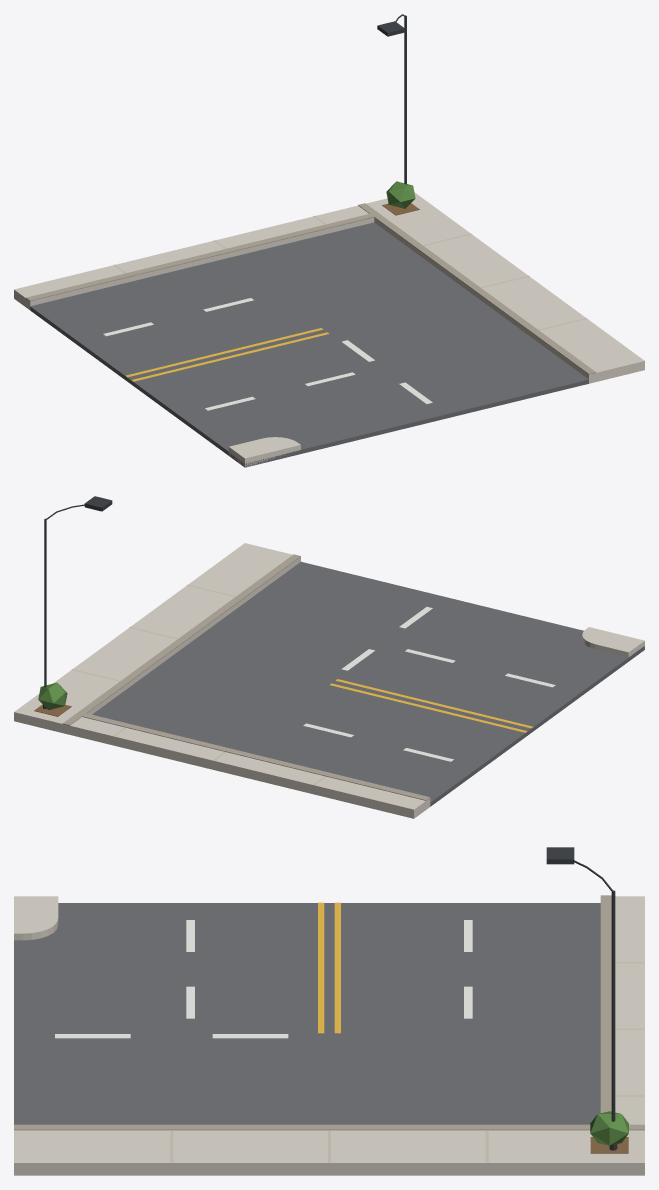
File: Yol_kose_sc_Hafif.fbx
3 renders of one model, top to bottom at view 1: azimuth 30°, elevation 25°; view 2: azimuth 150°, elevation 25°; view 3: azimuth 270°, elevation 25°, orthographic. The views are drawn at different scales.
Visible parts, largest first — view 1: Yol_kose_sc_Hafif; view 2: Yol_kose_sc_Hafif; view 3: Yol_kose_sc_Hafif.
Part boxes in pixels (<box>): Yol_kose_sc_Hafif: <box>14,14,644,467</box>; Yol_kose_sc_Hafif: <box>14,496,644,818</box>; Yol_kose_sc_Hafif: <box>14,847,644,1175</box>.
Size of the model in its own units: 10 by 5.01 by 10.
